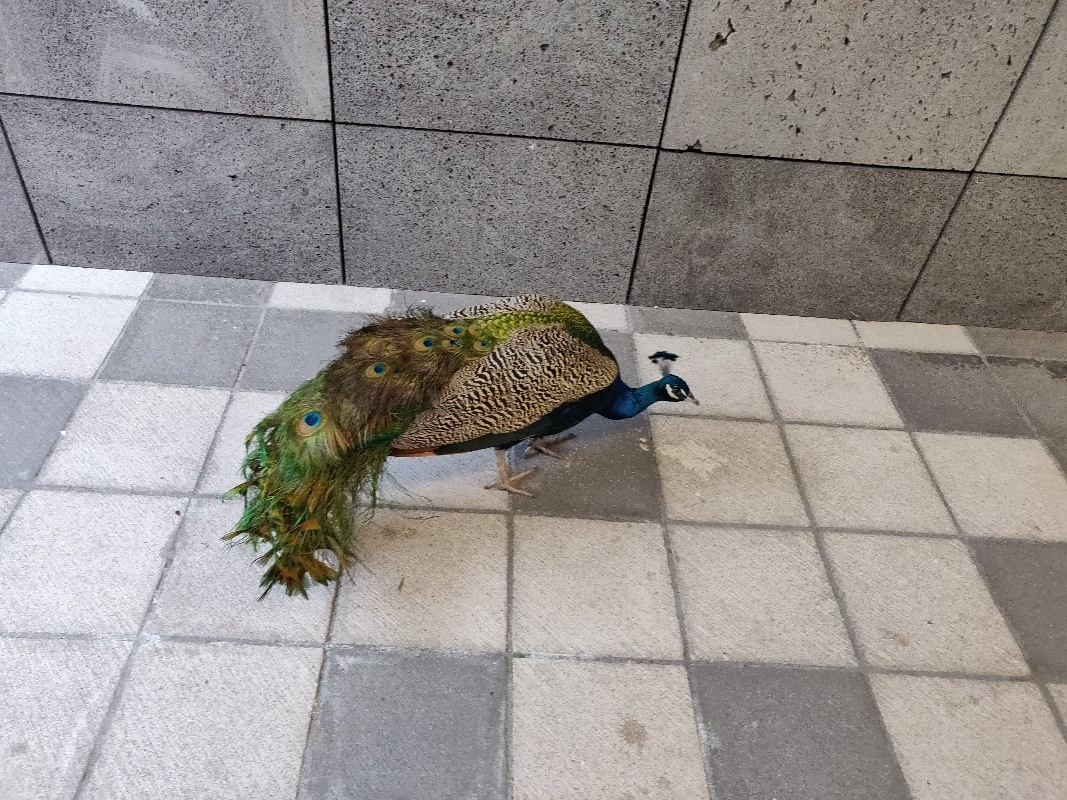pavoreal: (412, 295, 702, 451)
